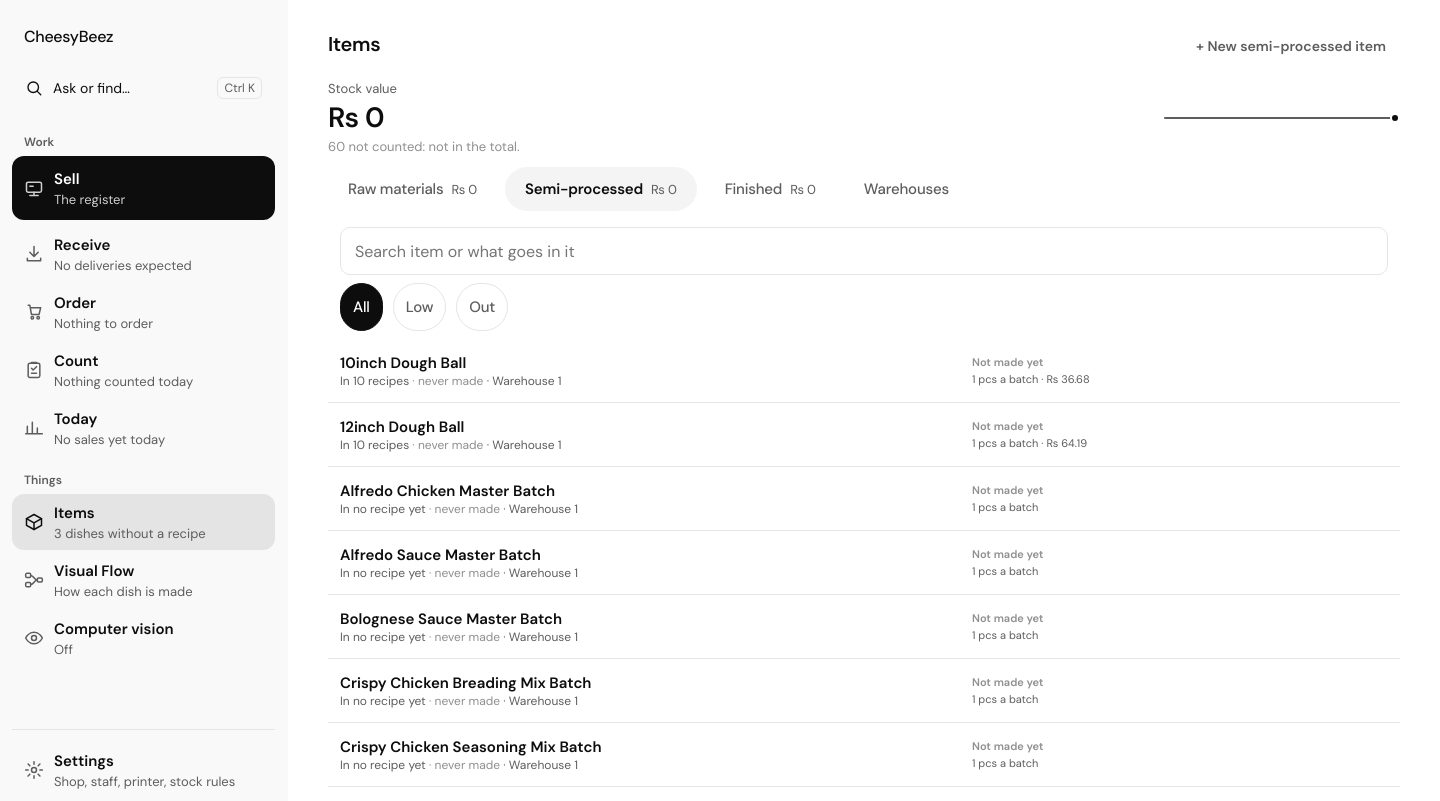
Test case: an item made from another names it, reads its share as a batch, and opens it with a tap (SCRUM-141)
Click the button "12inch Dough Ball" at (402, 426), box top-left (340, 416), bottom-right (464, 436)
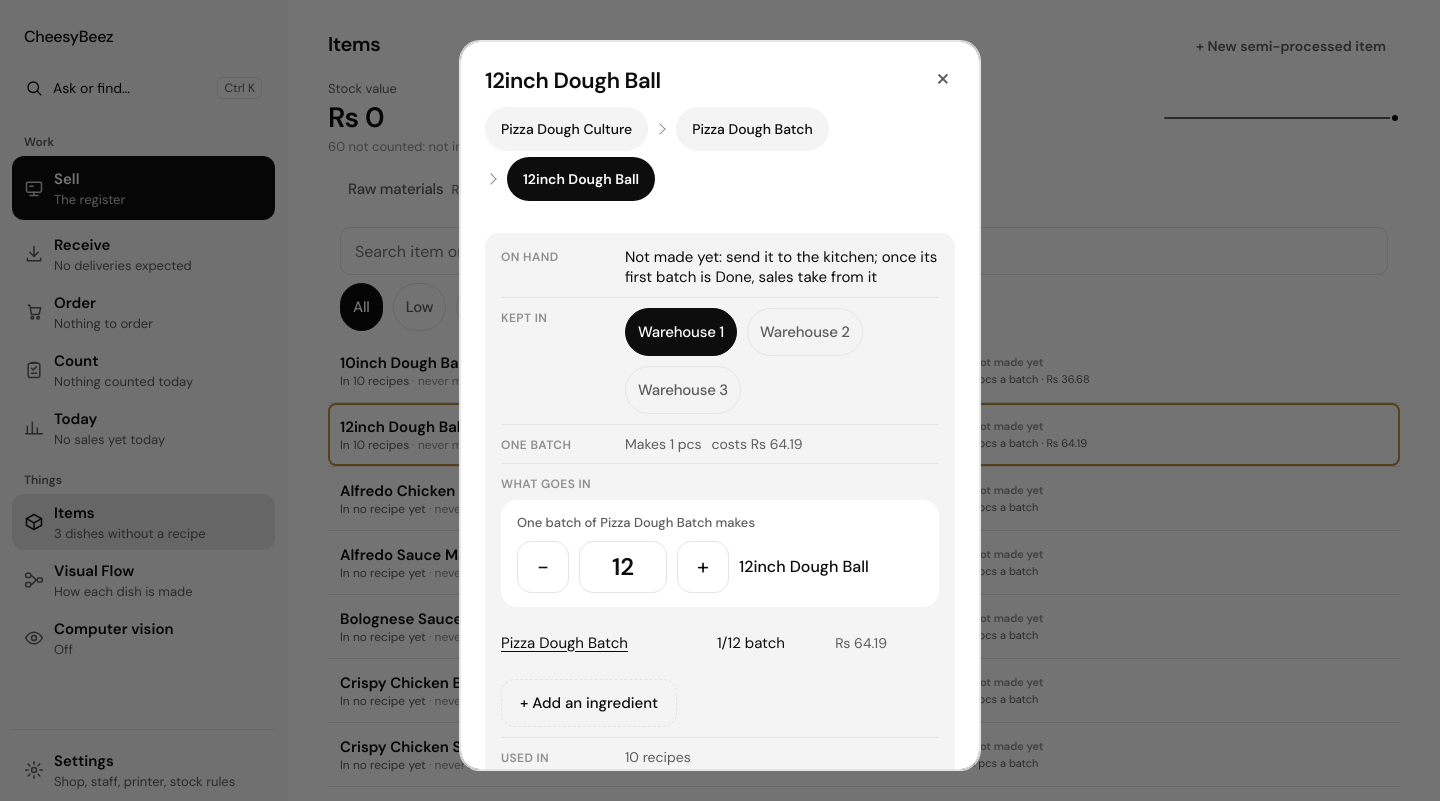
Expected: the text "1/12 batch" is shown, top-left (717, 632), bottom-right (785, 652)
Click the button with aria-label "Open Pizza Dough Batch" at (588, 642), box top-left (501, 618), bottom-right (675, 666)
(page scrolled)
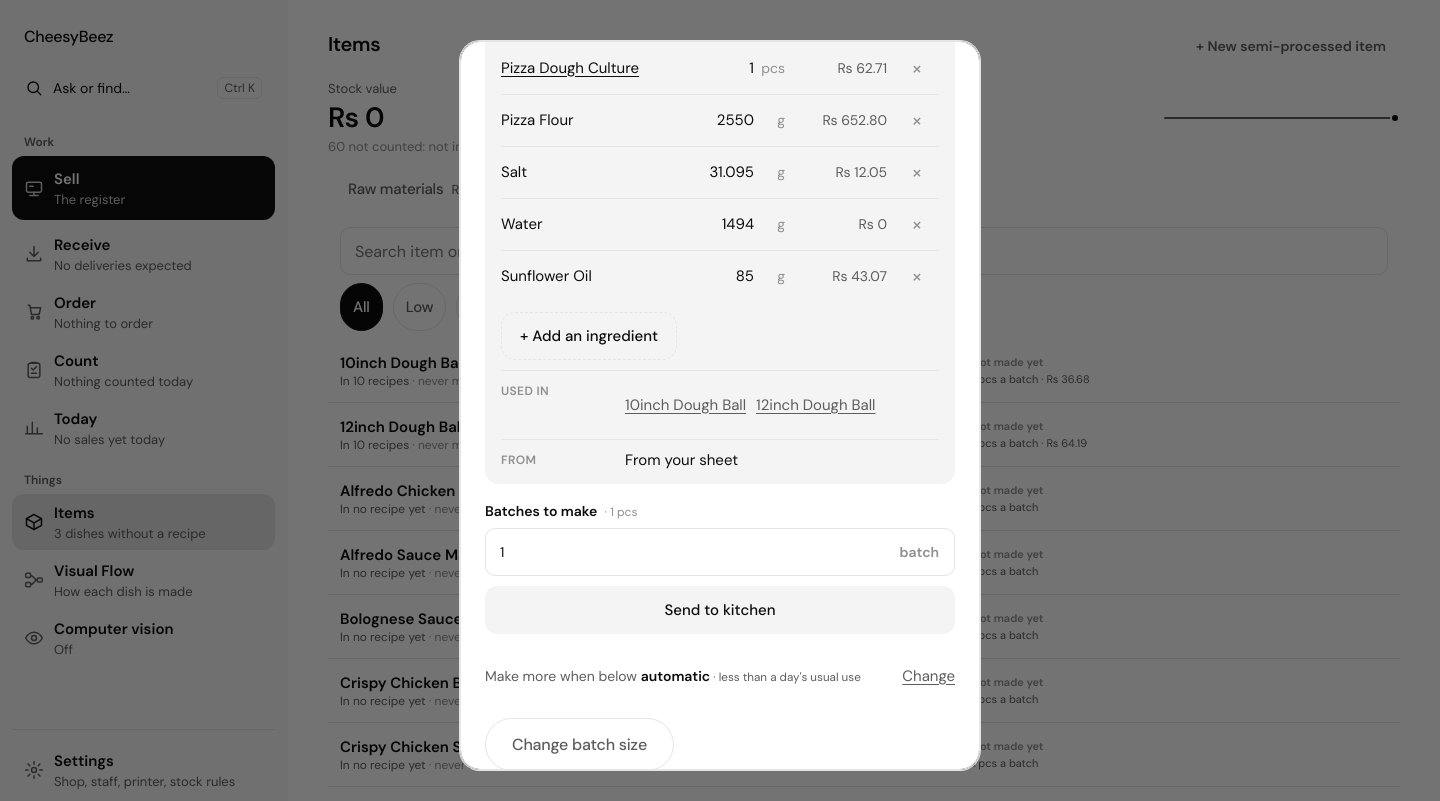
Click the button with aria-label "Open 10inch Dough Ball" at (686, 404), box top-left (625, 380), bottom-right (746, 428)
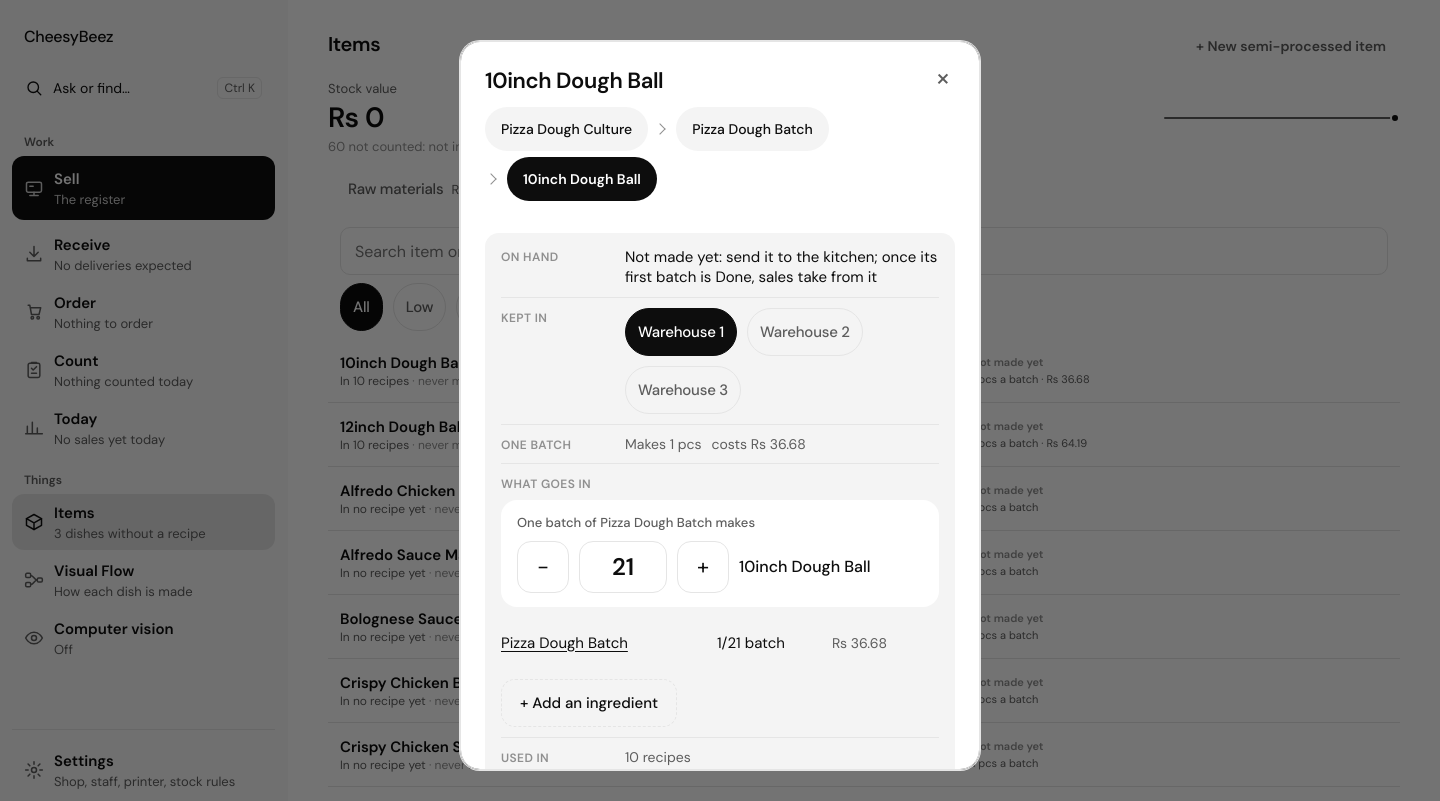
Expected: the heading "10inch Dough Ball" is shown, top-left (485, 66), bottom-right (663, 94)
